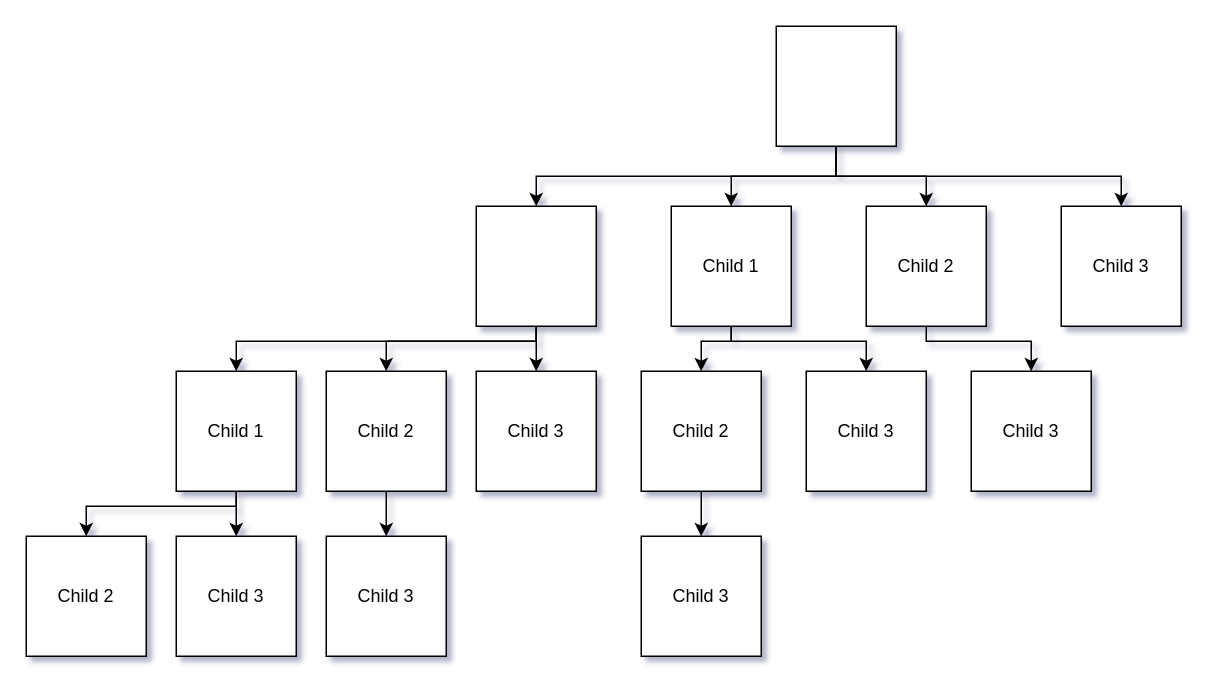
Some shapes in this 1217 by 692 pixel diagram are drawn without their labels. The shapes that lost their labels are listed below. From the top down, each one's centre as x and y in pixels, then its label:
point 835,85: Parent
point 535,265: Child 0
